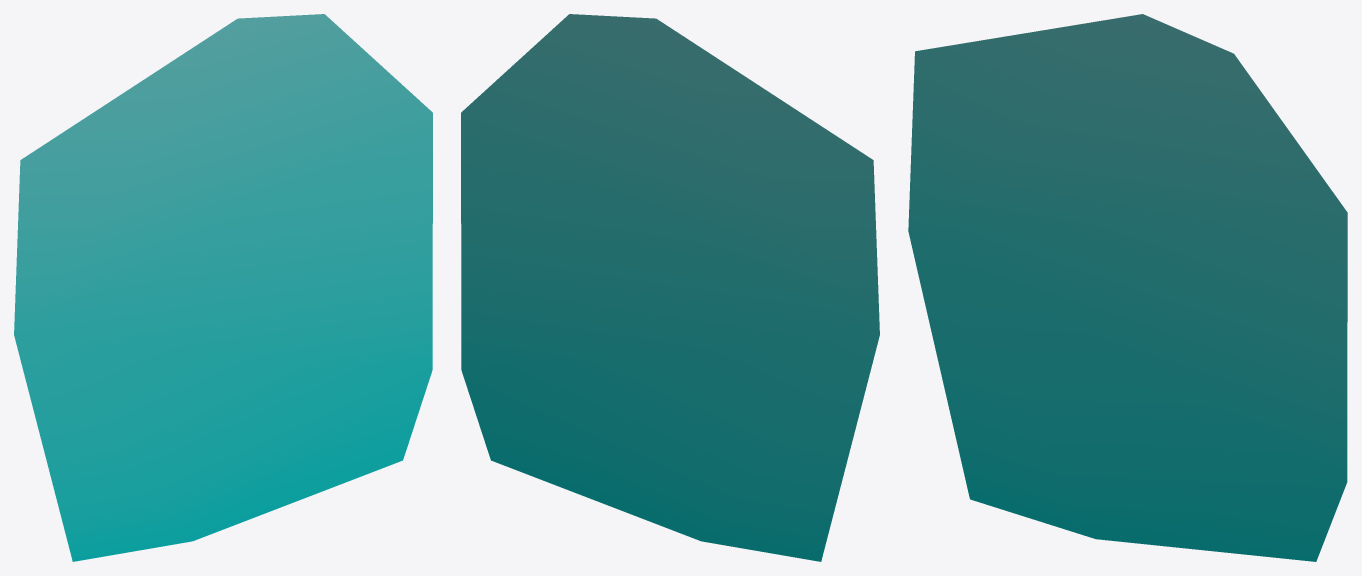
File: Grass_slBm1_Mid_slBm1_VarA_LOD2.fbx
3 views of the same model, side by side, from view 1: azimuth 30°, elevation 25°; view 2: azimuth 150°, elevation 25°; view 3: azimuth 330°, elevation 25° (orthographic). The views are drawn at different scales.
Visible parts, largest first — view 1: _7050_VarA_LOD3; view 2: _7050_VarA_LOD3; view 3: _7050_VarA_LOD3.
Part boxes in pixels (box(x1,y1,x2,y2)): _7050_VarA_LOD3: box(14, 14, 432, 561); _7050_VarA_LOD3: box(461, 14, 879, 561); _7050_VarA_LOD3: box(908, 14, 1347, 561).
Bounding box in the file's own units: 46.41 × 54.18 × 0.
